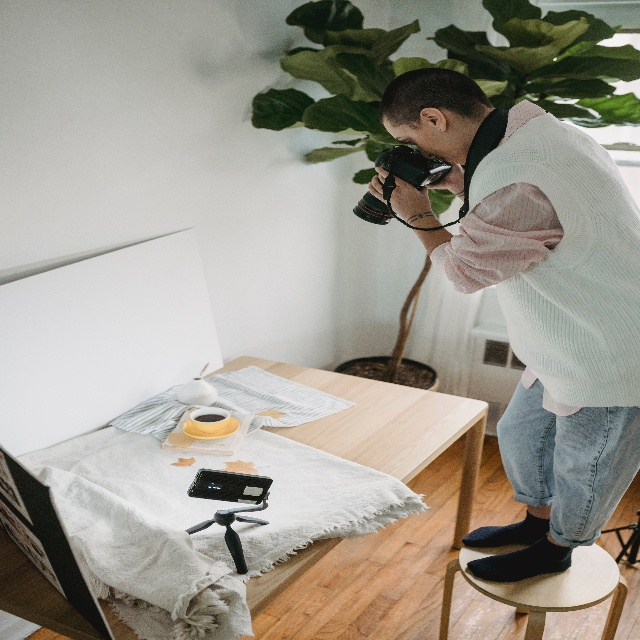Sin_guantes: (368, 166, 430, 223), (426, 161, 461, 190)
